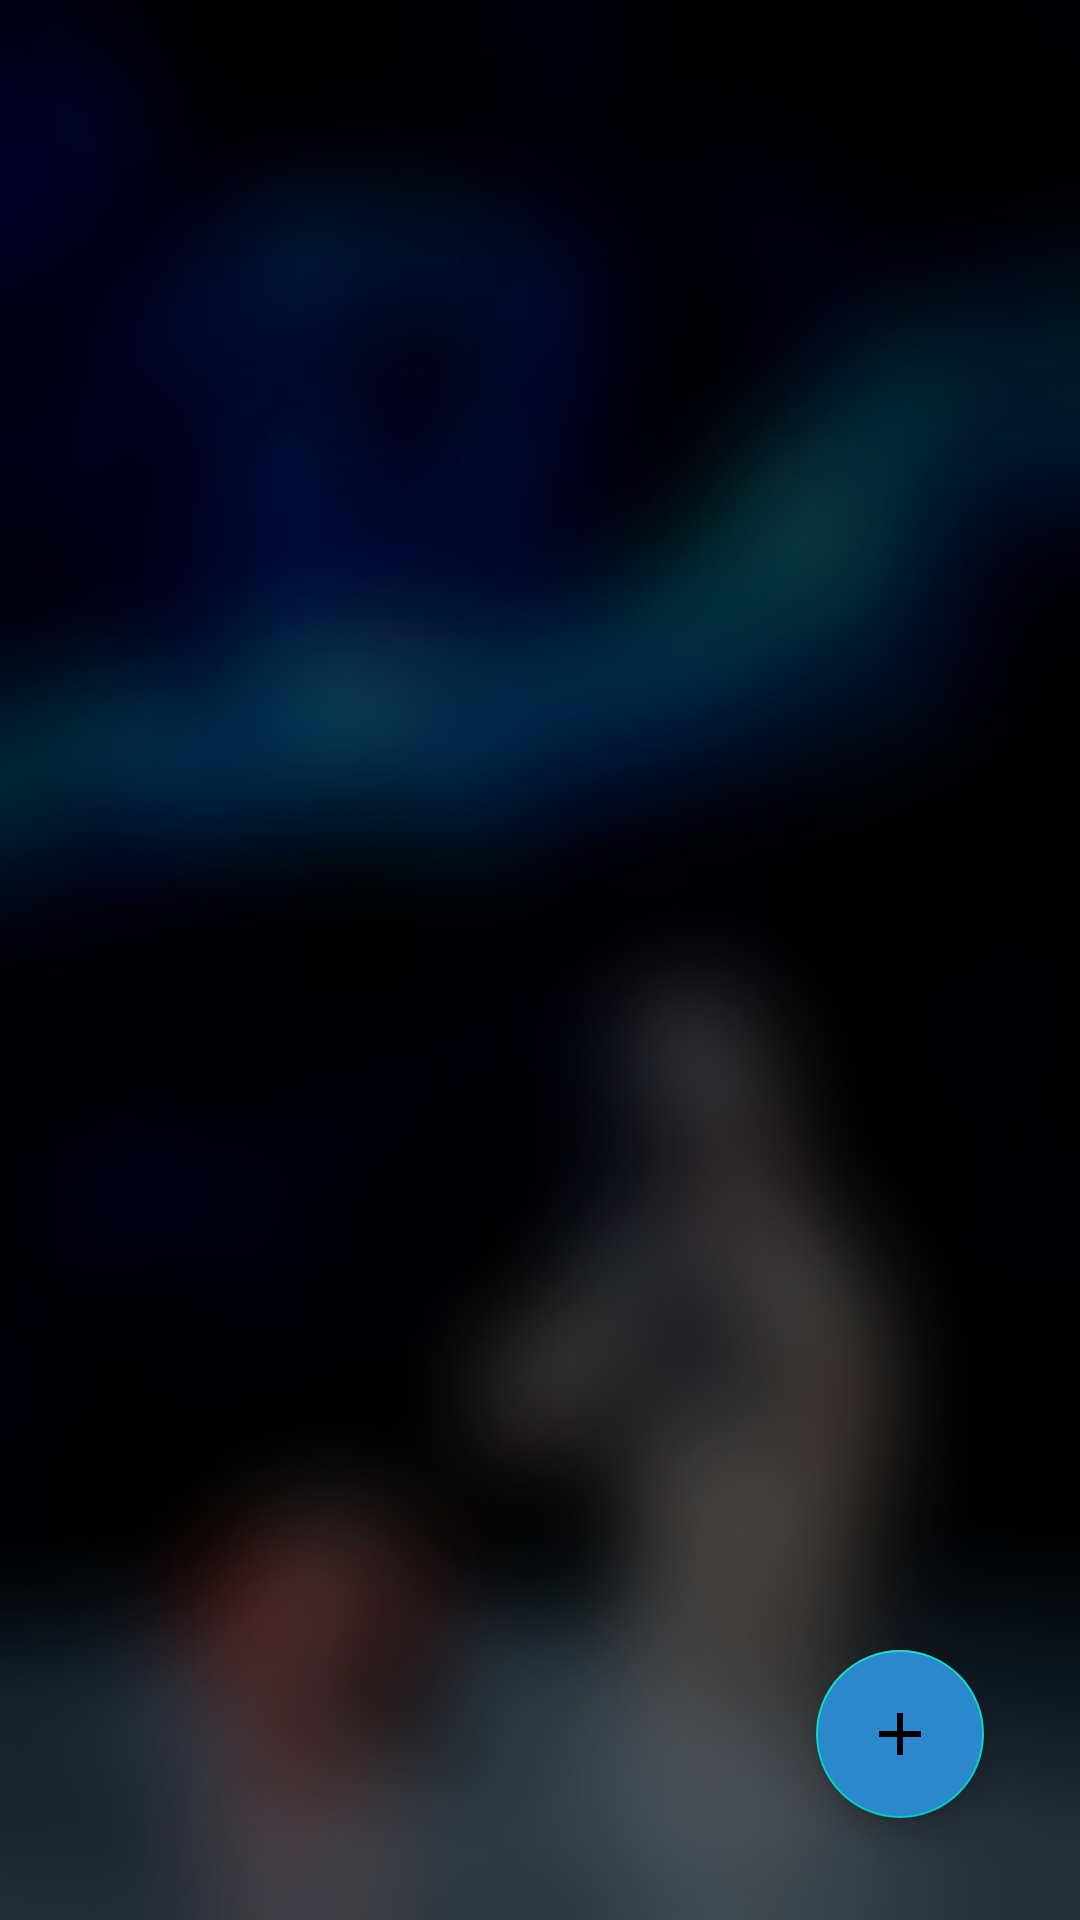

Named icons in this screenshot (1080px x 1920px) and their bounding boxes, (x1, y1, x2, y2):
add: (816, 1650, 984, 1818)
